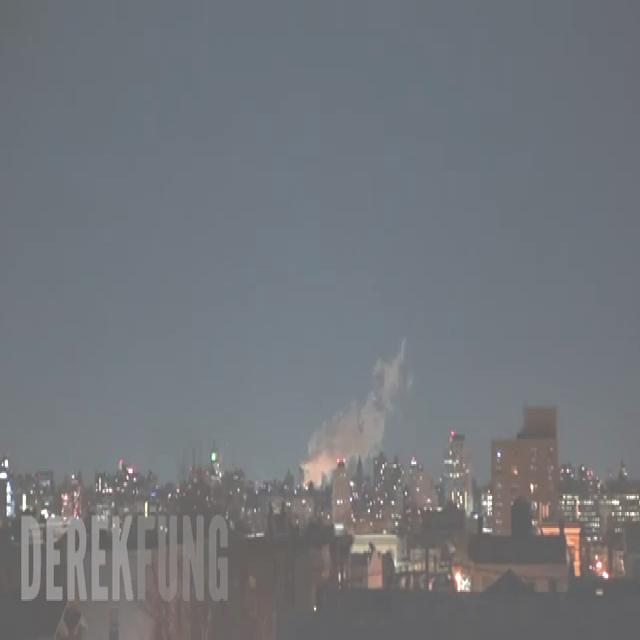smoke: (300, 336, 420, 482)
